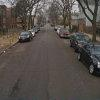Car: (68, 28, 100, 79)
